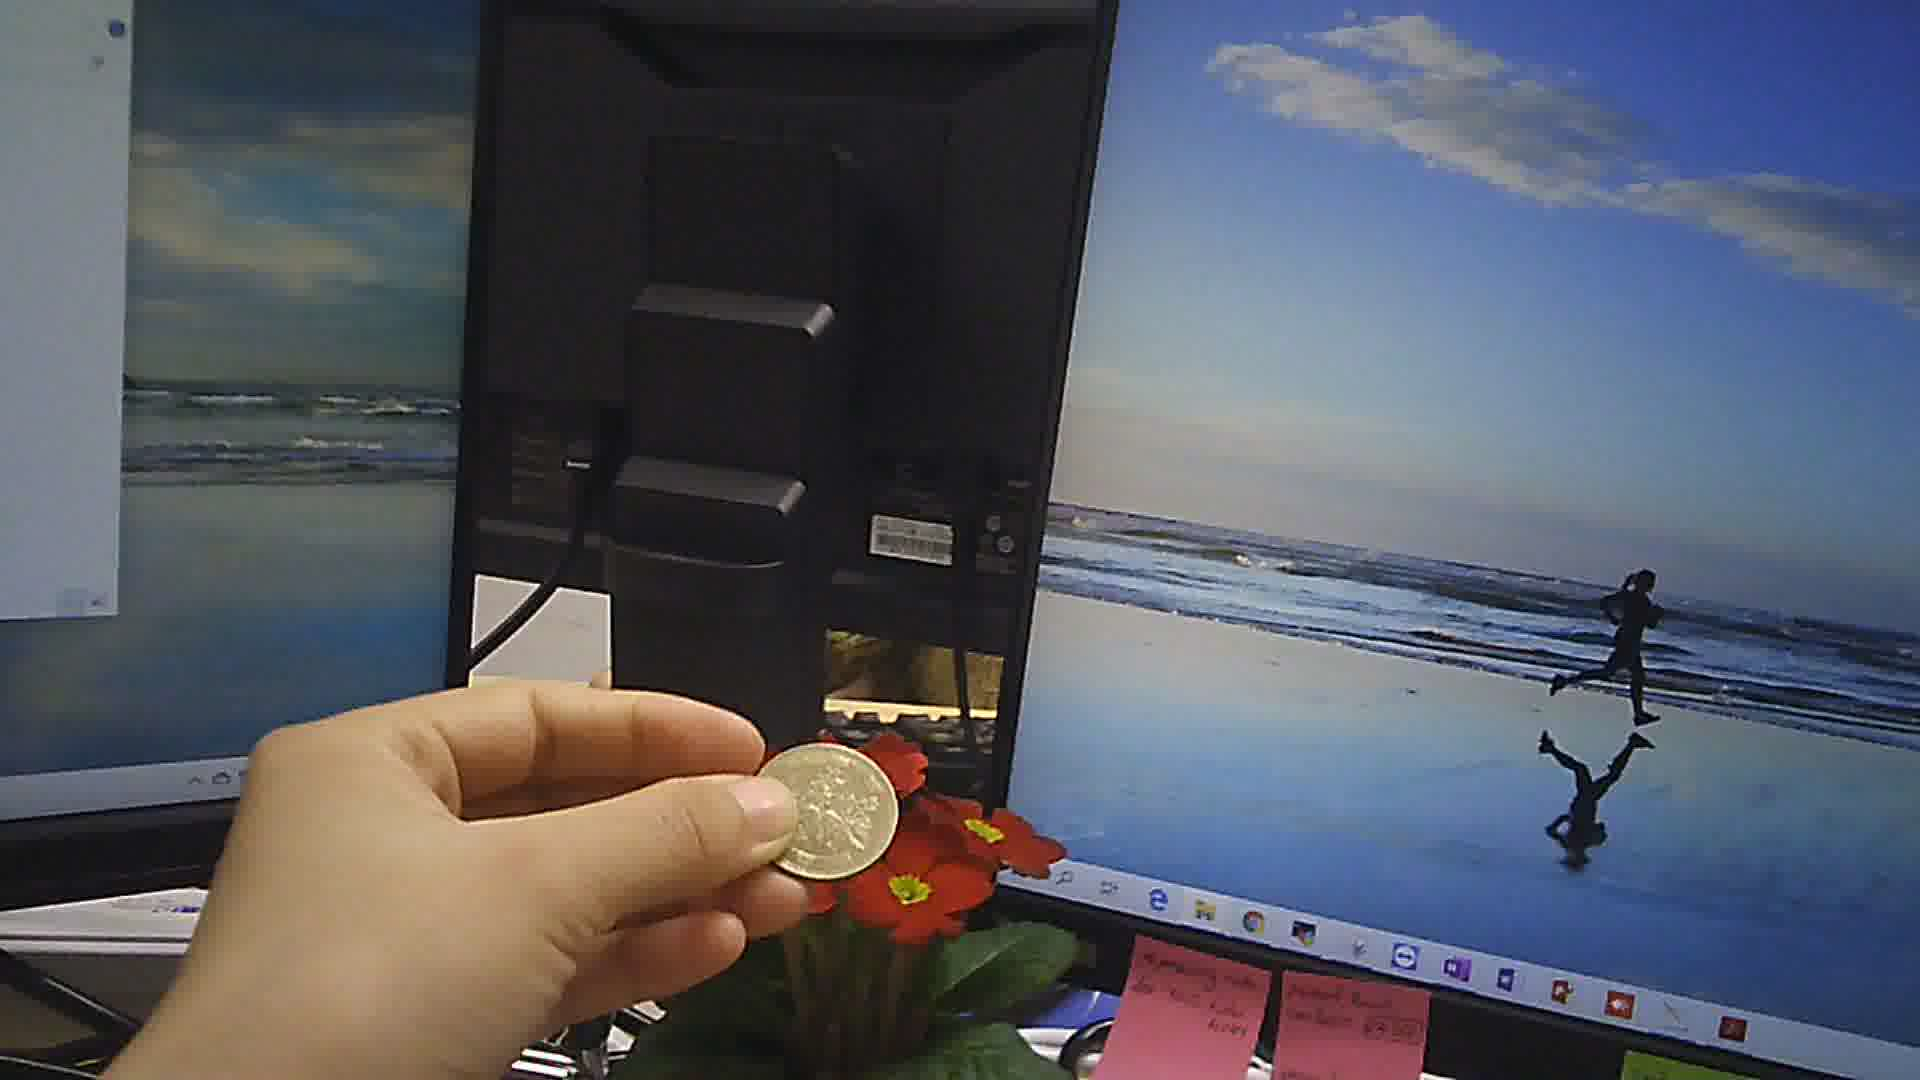500 Yen: (742, 732, 907, 880)
